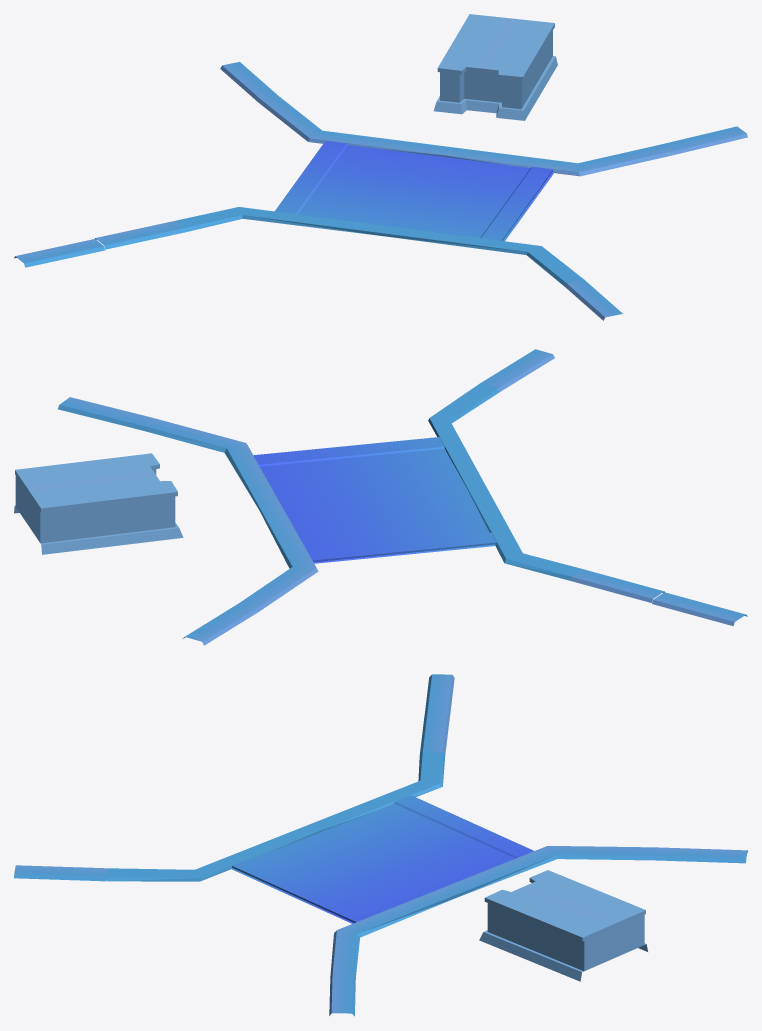
Rendered from Area_07_19.fbx.
The picture shows the model from 3 angles, top to bottom: view 1: azimuth 30°, elevation 25°; view 2: azimuth 150°, elevation 25°; view 3: azimuth 270°, elevation 25°; orthographic projection. The views are drawn at different scales.
Parts seen in each view (by area): view 1: Area_07_19; view 2: Area_07_19; view 3: Area_07_19.
Boxes of the visible parts, x1,y1,x2,y2 form: Area_07_19: [14, 14, 747, 320]; Area_07_19: [14, 349, 747, 645]; Area_07_19: [14, 674, 747, 1016].
Bounding box in the file's own units: 3829 × 233 × 3489.
